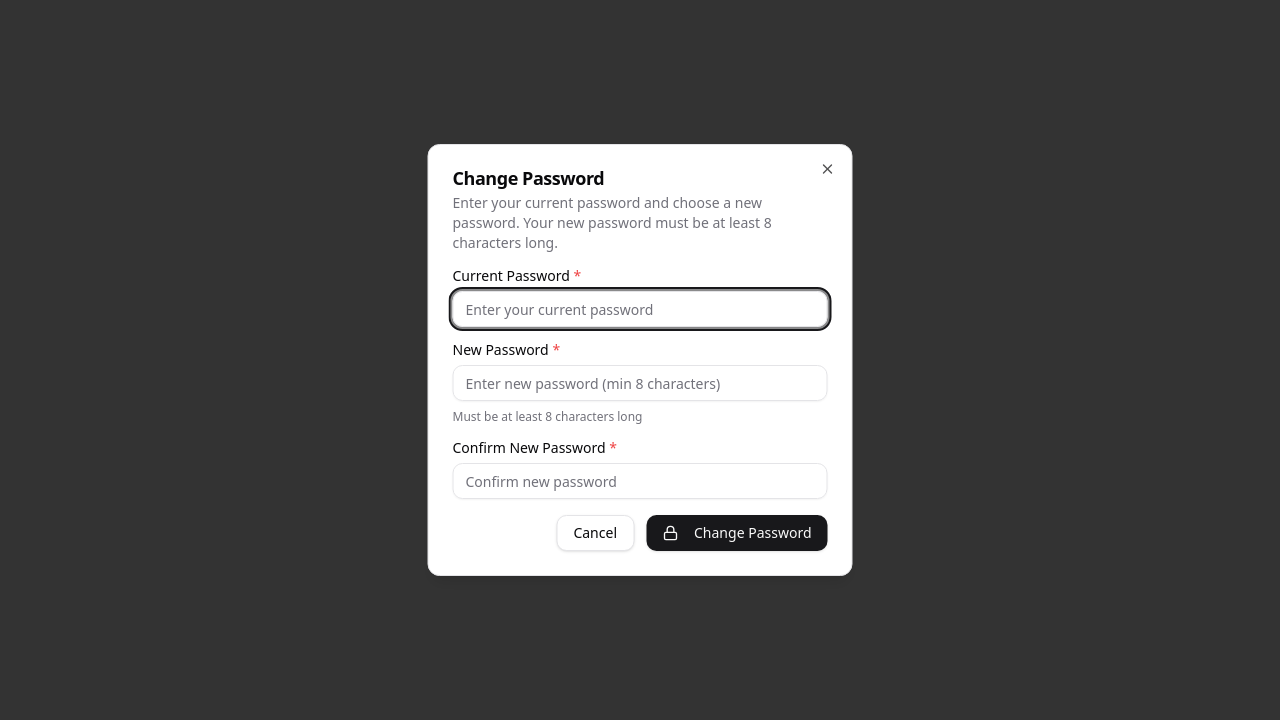
Test: ChangePasswordDialog › validates password length
Type "oldpass" into the password field with id "current-password" at (640,309), box [452,291,828,327]
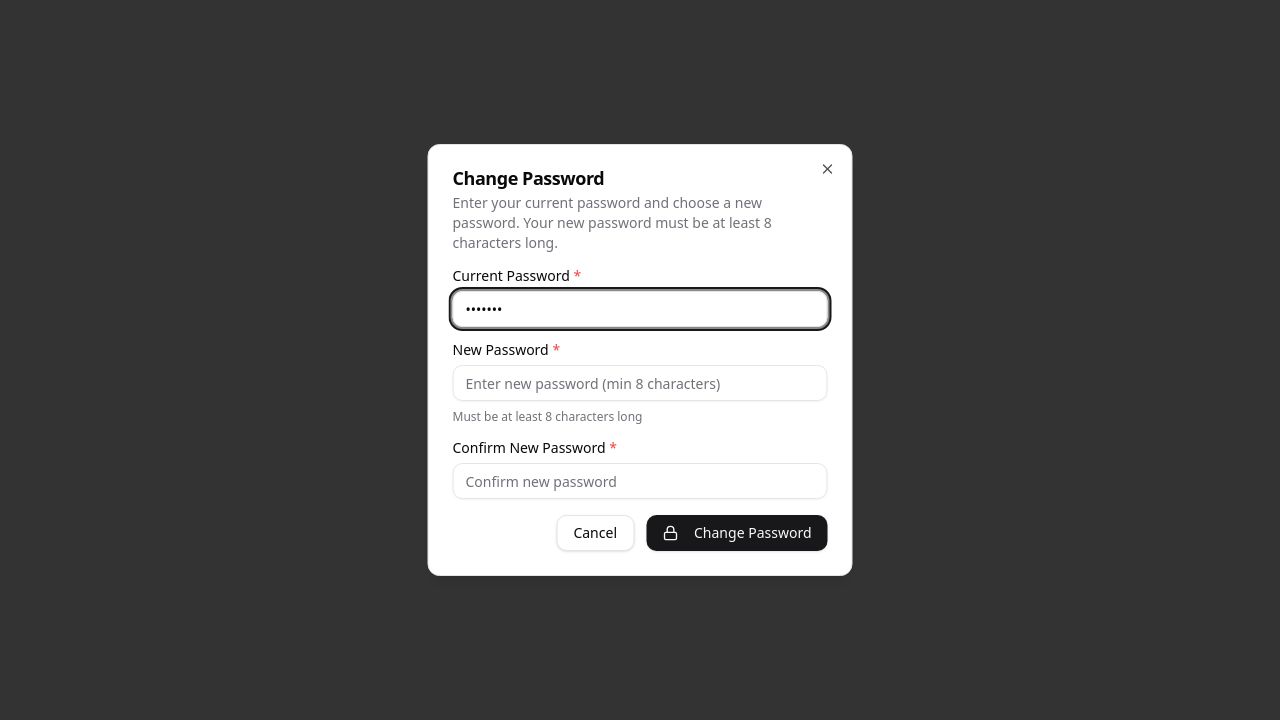
Type "short" into the password field with id "new-password" at (640,383), box [452,365,828,401]
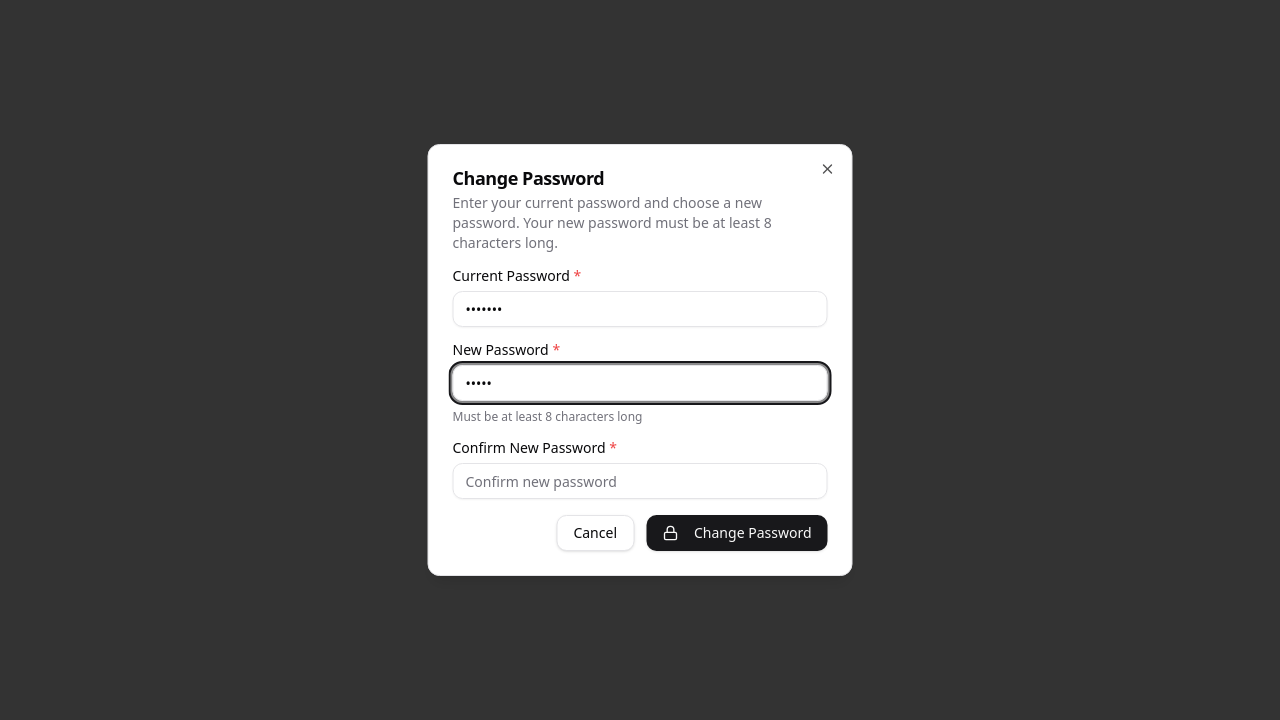
Click the button "Change Password" at (737,533), box [646,515,828,551]
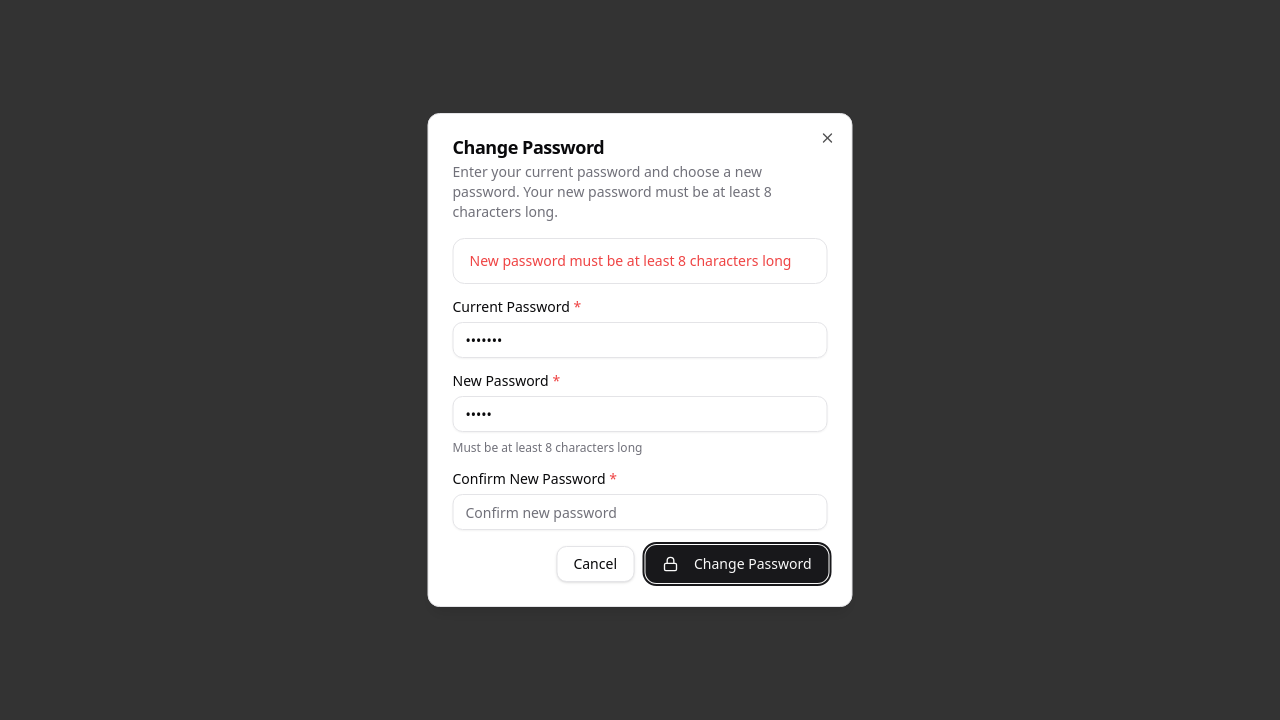
Check: the message reads "New password must be at least 8 characters long", box [470,251,792,270]
